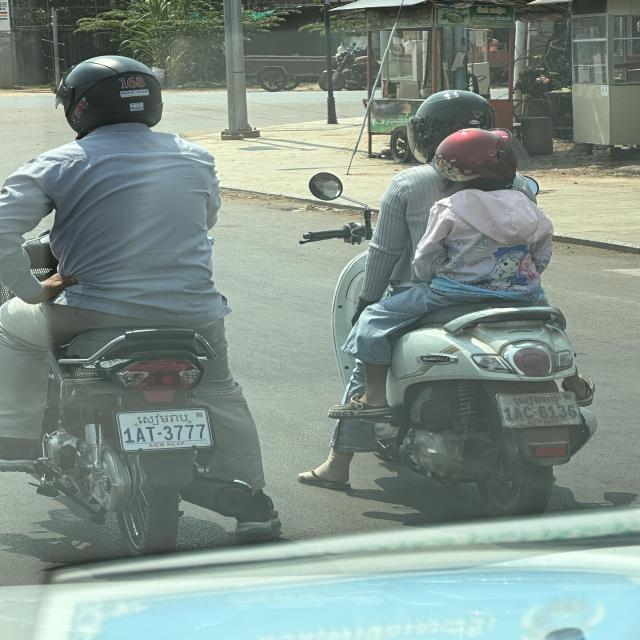Siem_Reap: (136, 412, 189, 426), (513, 395, 560, 405)
